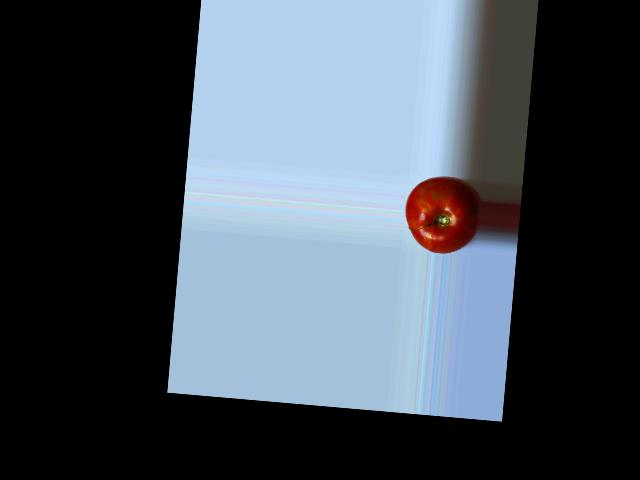tomato: (402, 173, 483, 256)
